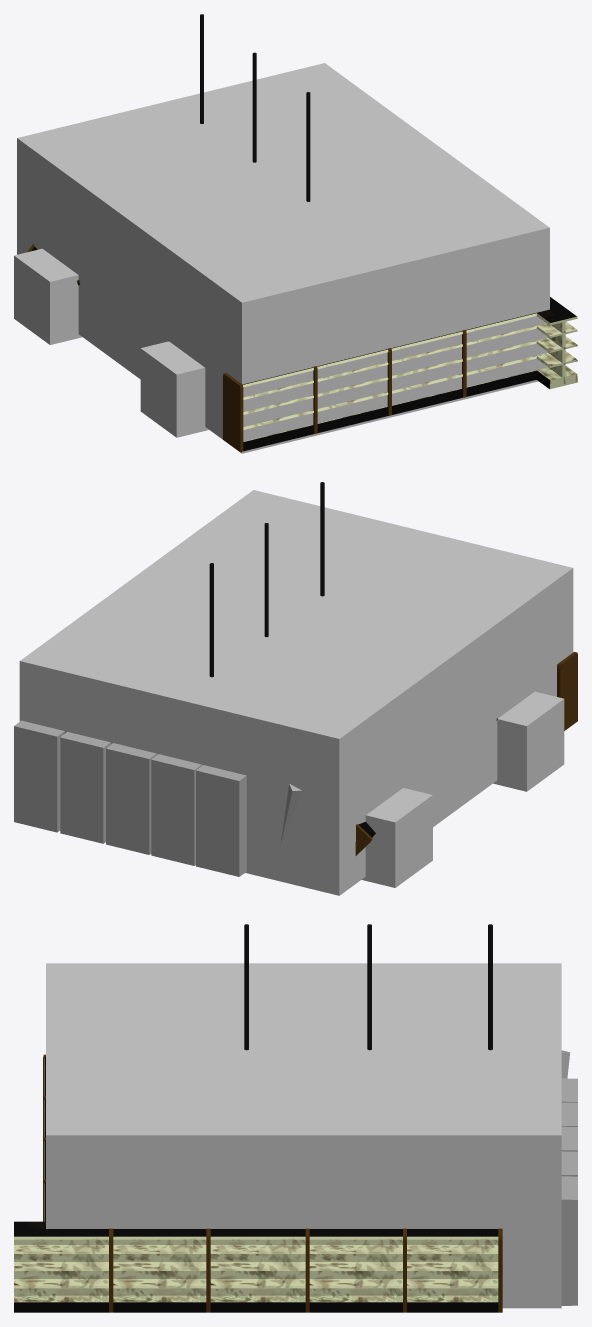
The model's file is store.obj.
3 views of the same model, one above another, from view 1: azimuth 30°, elevation 25°; view 2: azimuth 150°, elevation 25°; view 3: azimuth 270°, elevation 25° (orthographic). The views are drawn at different scales.
Parts seen in each view (by area): view 1: storeWalls, Shelf.013, Shelf.009, Shelf.011, Shelf.012, Shelf.010; view 2: storeWalls, Fridge1.001, Fridge2.002, Fridge1.003, Fridge1.002, Fridge2, Shelf.013, Aisle_3, Aisle_1, Aisle_2; view 3: storeWalls, Shelf.009, Shelf.007, Shelf.008, Shelf.006, Shelf.005, Fridge2.002, Aisle_1, Aisle_3, Aisle_2.
Boxes of the visible parts, left/top/right/bottom form: storeWalls: left=14, top=63, right=549, bottom=453; Shelf.013: left=223, top=367, right=313, bottom=452; Shelf.009: left=536, top=297, right=577, bottom=389; Shelf.011: left=387, top=331, right=462, bottom=415; Shelf.012: left=313, top=349, right=388, bottom=433; Shelf.010: left=462, top=313, right=537, bottom=397; storeWalls: left=19, top=490, right=573, bottom=895; Fridge1.001: left=196, top=765, right=246, bottom=876; Fridge2.002: left=14, top=720, right=64, bottom=832; Fridge1.003: left=60, top=732, right=110, bottom=843; Fridge1.002: left=106, top=743, right=156, bottom=854; Fridge2: left=151, top=754, right=201, bottom=865; Shelf.013: left=557, top=652, right=577, bottom=730; Aisle_3: left=320, top=482, right=324, bottom=596; Aisle_1: left=209, top=563, right=213, bottom=677; Aisle_2: left=264, top=523, right=268, bottom=636; storeWalls: left=46, top=963, right=561, bottom=1308; Shelf.009: left=14, top=1221, right=113, bottom=1312; Shelf.007: left=210, top=1228, right=309, bottom=1312; Shelf.008: left=113, top=1228, right=210, bottom=1312; Shelf.006: left=309, top=1228, right=406, bottom=1312; Shelf.005: left=407, top=1228, right=502, bottom=1312; Fridge2.002: left=561, top=1176, right=577, bottom=1305; Aisle_1: left=488, top=924, right=492, bottom=1050; Aisle_3: left=244, top=924, right=248, bottom=1050; Aisle_2: left=367, top=924, right=371, bottom=1050.
Bounding box in the file's own units: 41.33 × 30.01 × 50.21.
